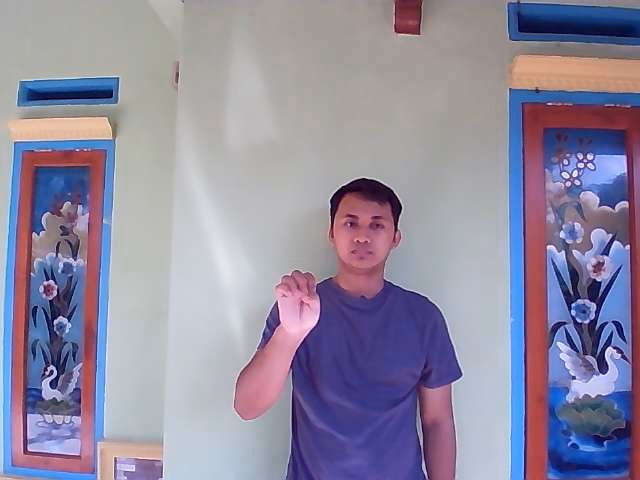E: (272, 264, 323, 345)
